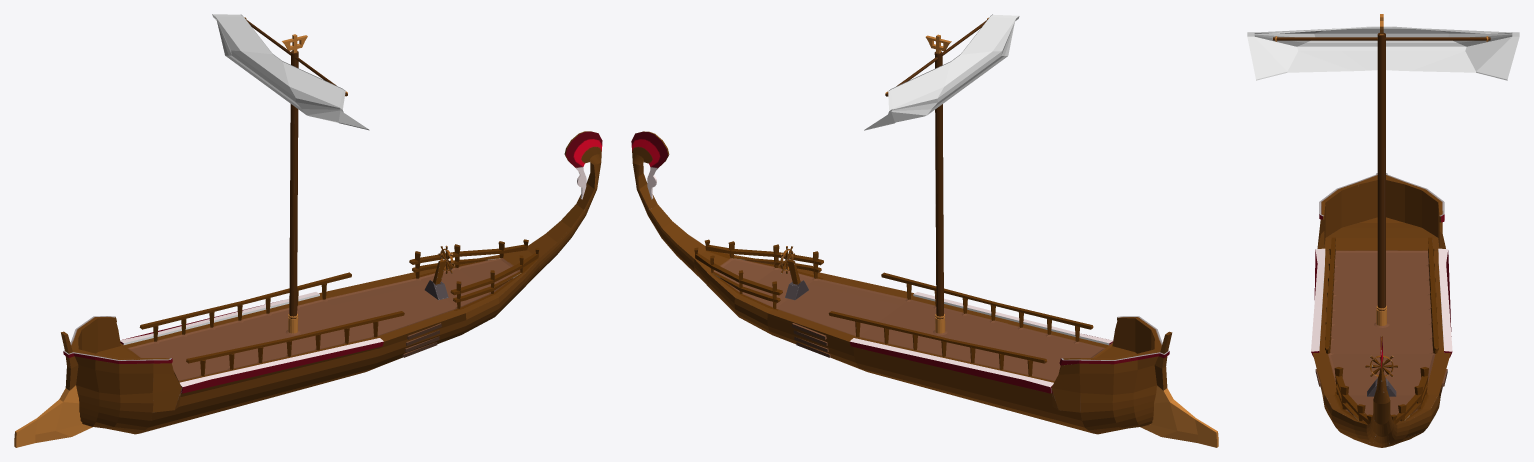
File: Bireme.fbx
3 renders of one model, left to right at view 1: azimuth 30°, elevation 25°; view 2: azimuth 150°, elevation 25°; view 3: azimuth 270°, elevation 25°, orthographic. The views are drawn at different scales.
Visible parts, largest first — view 1: Ship, Sail; view 2: Ship, Sail; view 3: Ship, Sail, Wheel.
Boxes of the visible parts, bbox=[...] form: Ship: bbox=[14, 17, 602, 447]; Sail: bbox=[212, 14, 369, 130]; Ship: bbox=[631, 17, 1218, 447]; Sail: bbox=[864, 14, 1019, 130]; Ship: bbox=[1273, 14, 1490, 447]; Sail: bbox=[1247, 26, 1519, 80]; Wheel: bbox=[1365, 352, 1397, 376].
Size of the model in its own units: 3388 by 1948 by 1307.
